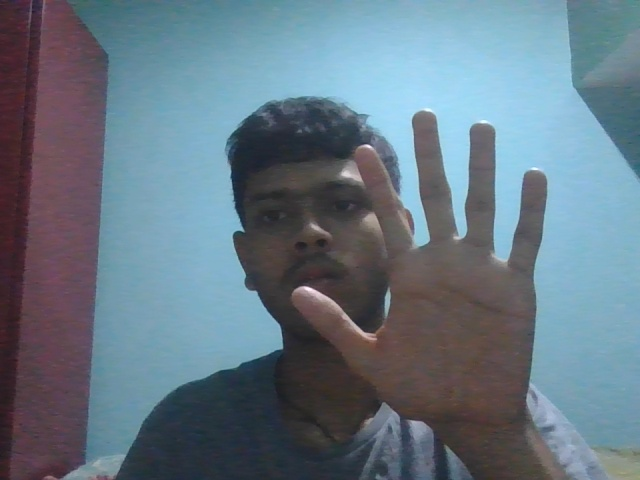hello: (280, 106, 570, 441)
